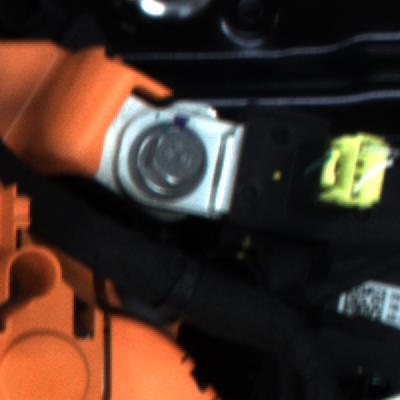nut_b: (120, 122, 212, 207)
